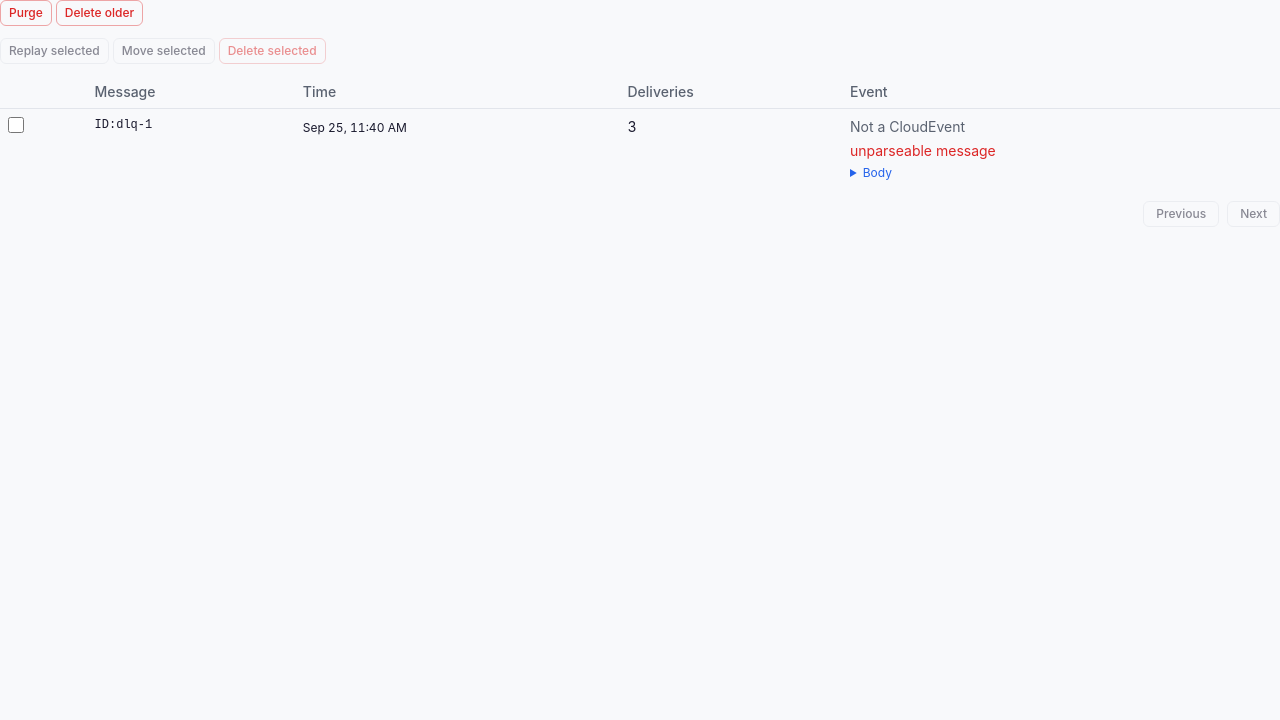
Test case: EsbMessageList › clears the selection after purge succeeds
Click the checkbox named "Select ID:dlq-1".
click(16, 125)  # box [8,117,24,133]
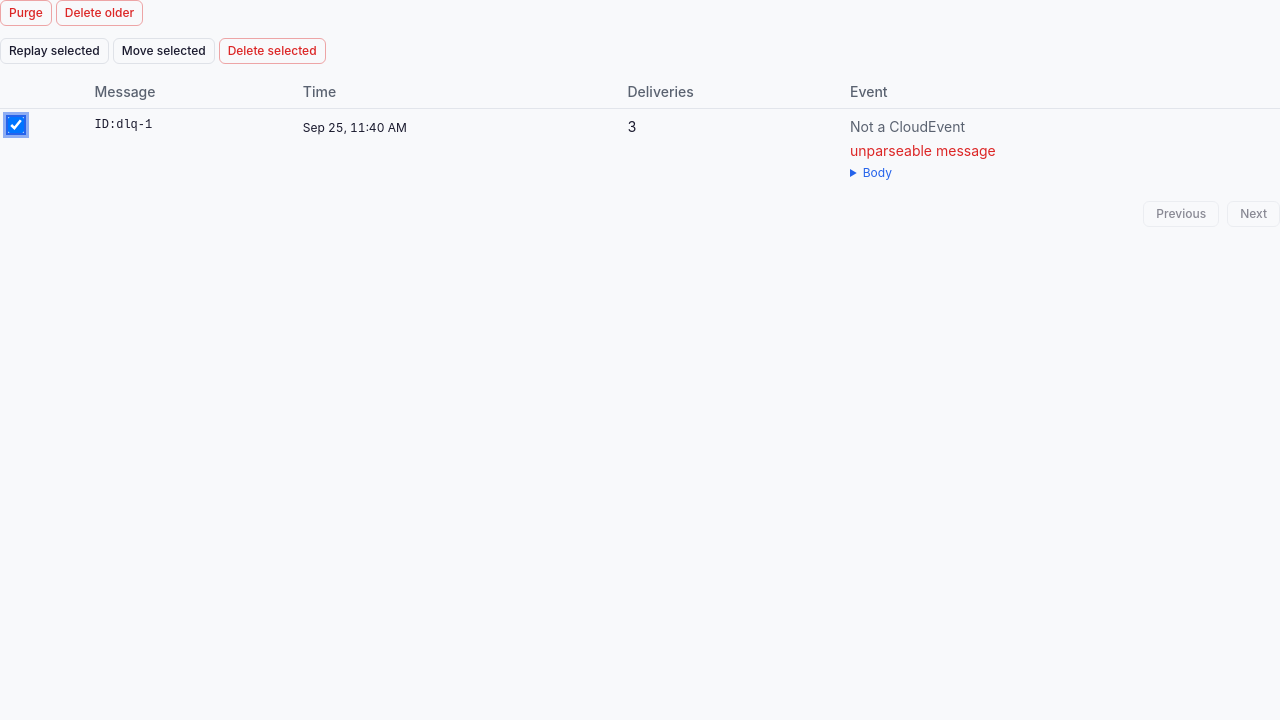
Click the button with aria-label "Purge orderFulfillment.dlq".
click(26, 13)  # box [0,0,52,26]
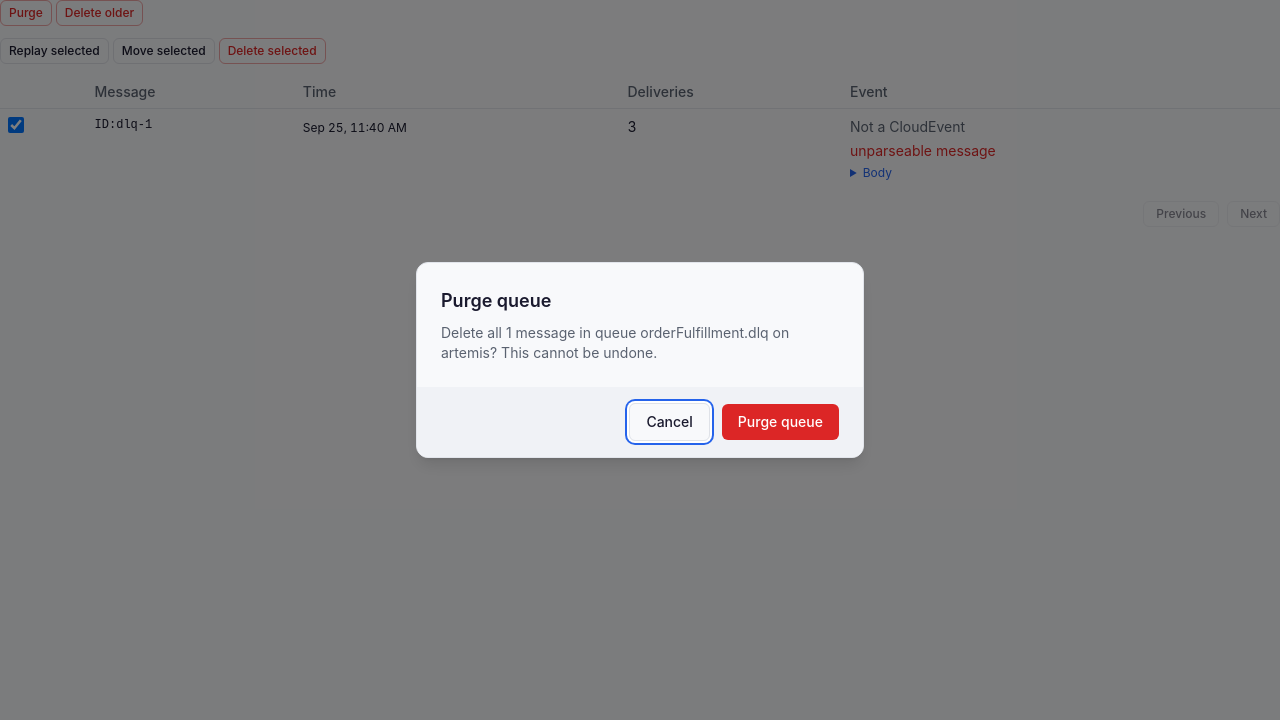
Click the button "Purge queue".
click(780, 422)  # box [722,404,839,440]
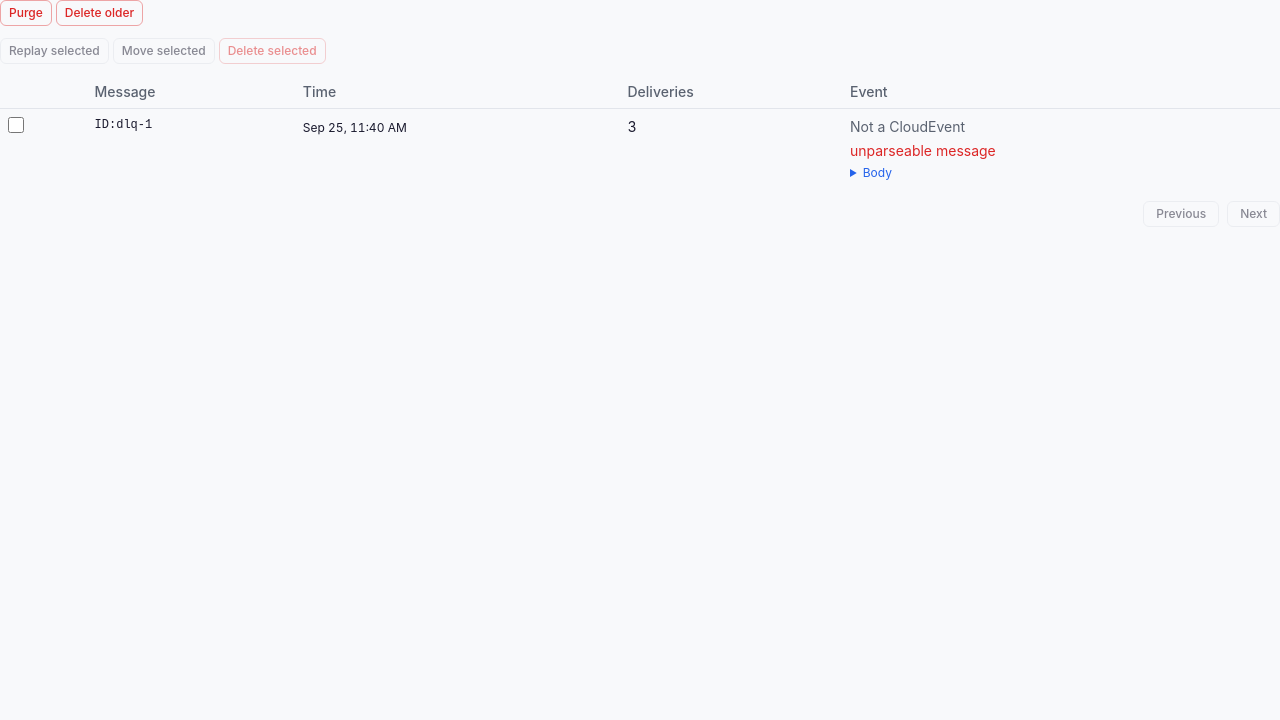
Check: the checkbox named "Select ID:dlq-1" is not checked, box [8,117,24,133]
Check: the dialog is gone
Check: the button "Replay selected" is disabled, box [0,38,109,64]
